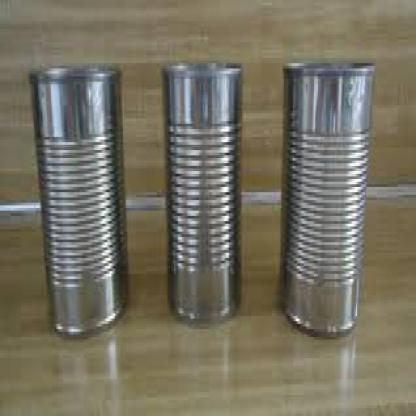METAL: (26, 63, 124, 337), (281, 58, 374, 334), (161, 58, 243, 324)
